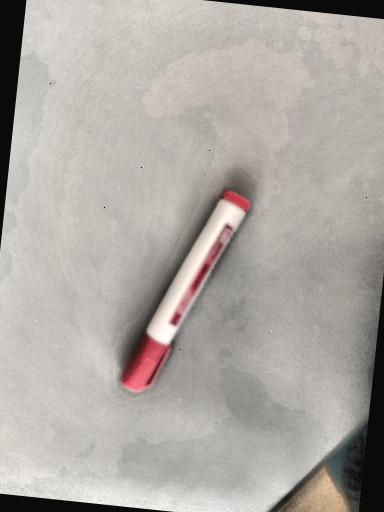marcador rojo: (121, 189, 250, 390)
